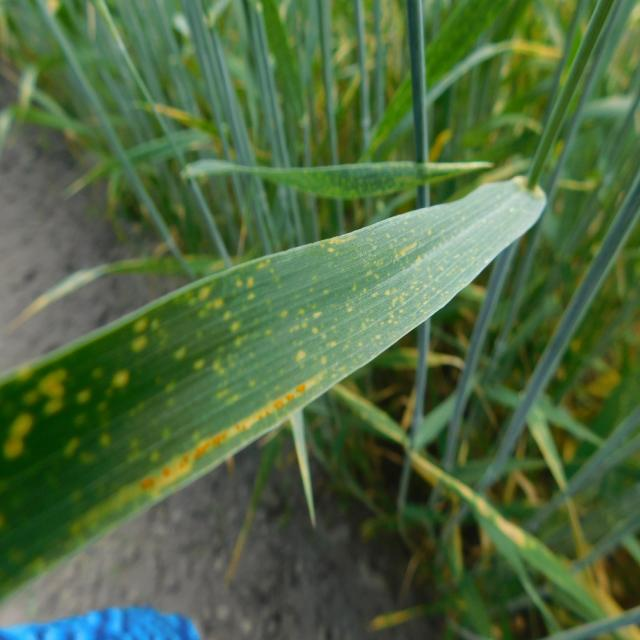wheat-yellowrust: (0, 183, 548, 605)
